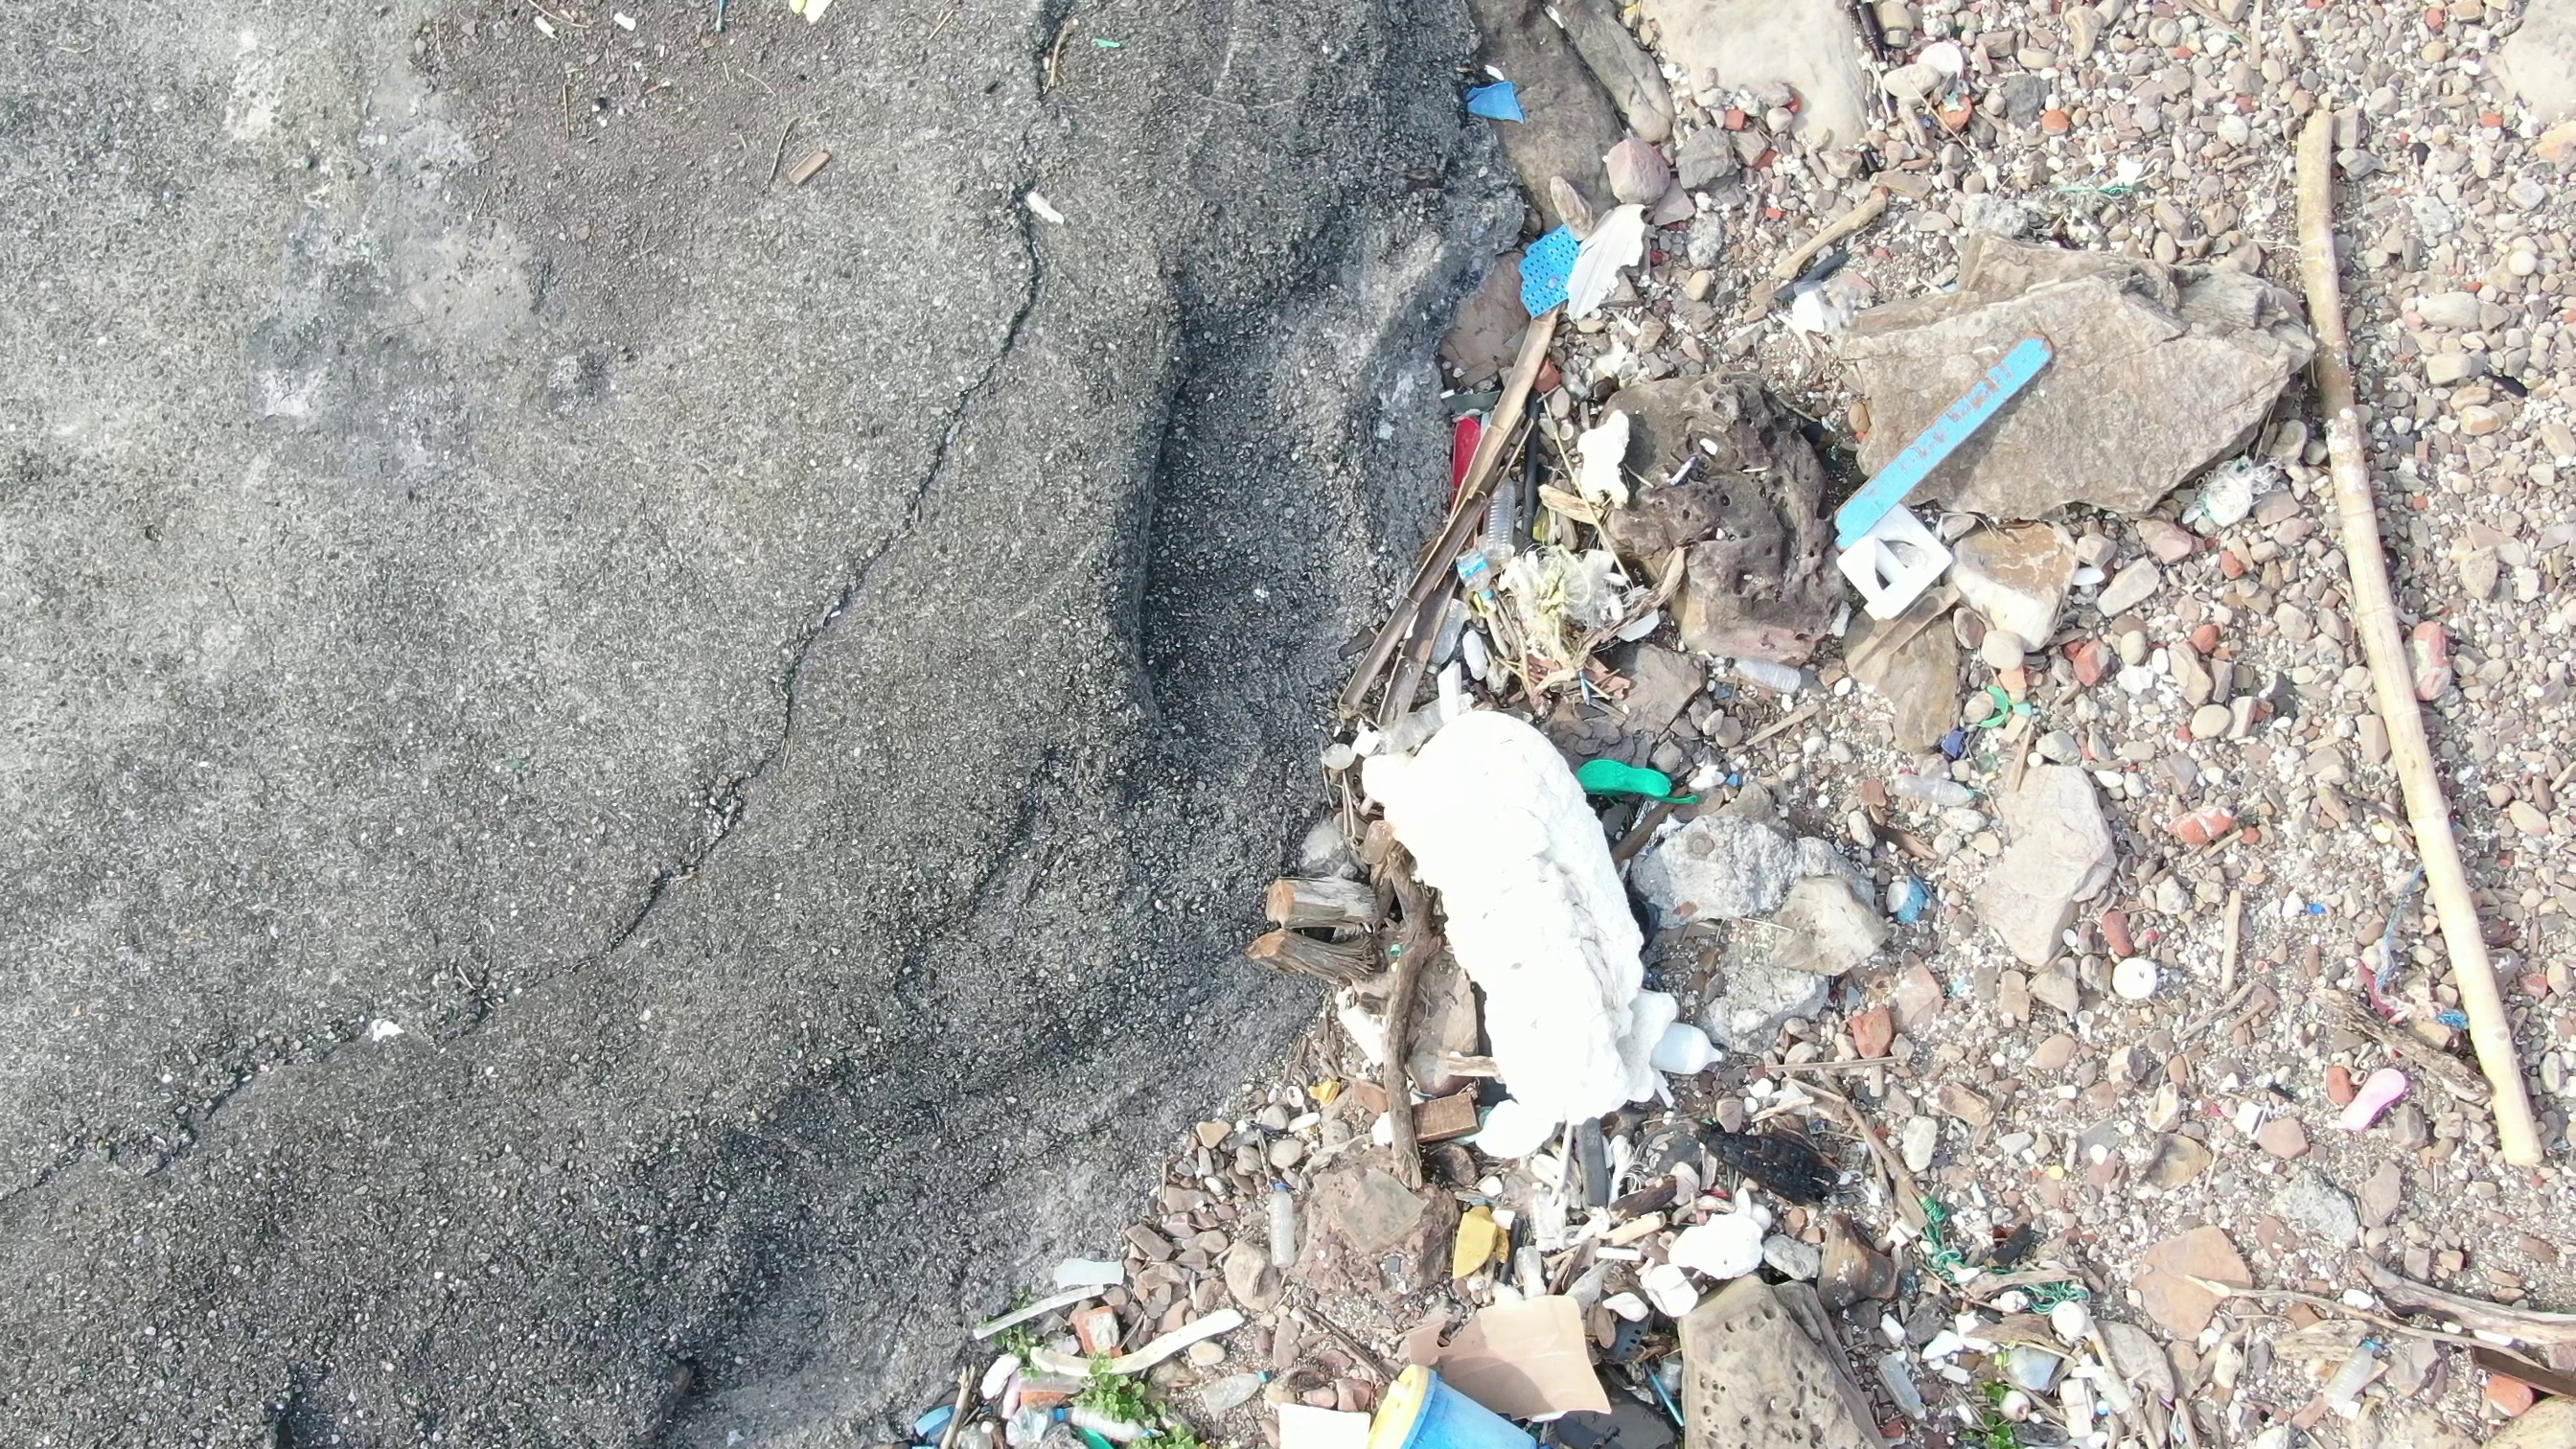bottle: (1484, 456, 1529, 571)
garbage: (1265, 853, 1810, 1449), (1369, 35, 1693, 869), (1822, 331, 2063, 616), (890, 1302, 1141, 1449), (1918, 1182, 2127, 1330)
